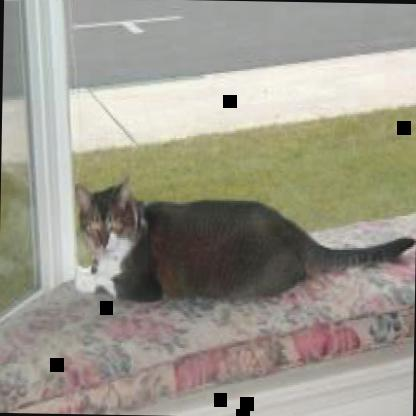cat: (69, 177, 415, 308)
